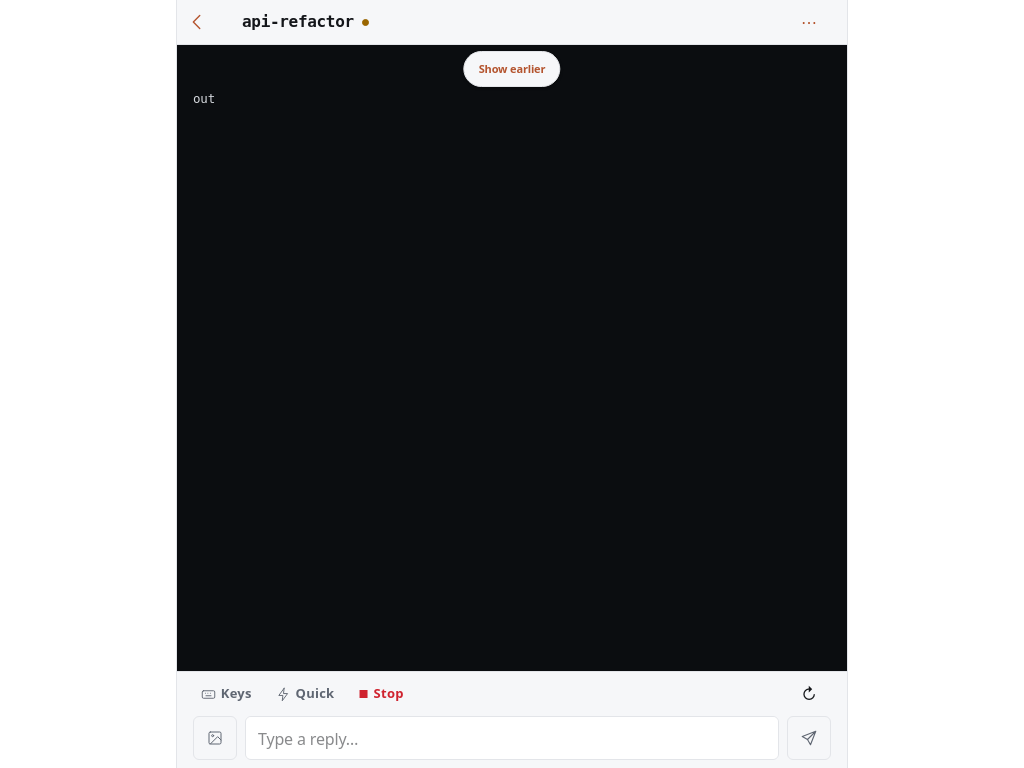
Test: a journal-hinted agent whose /history answers reconstruction falls back, not blank
Click the button with class "term-earlier".
click(512, 69)  # box left=463, top=51, right=561, bottom=87
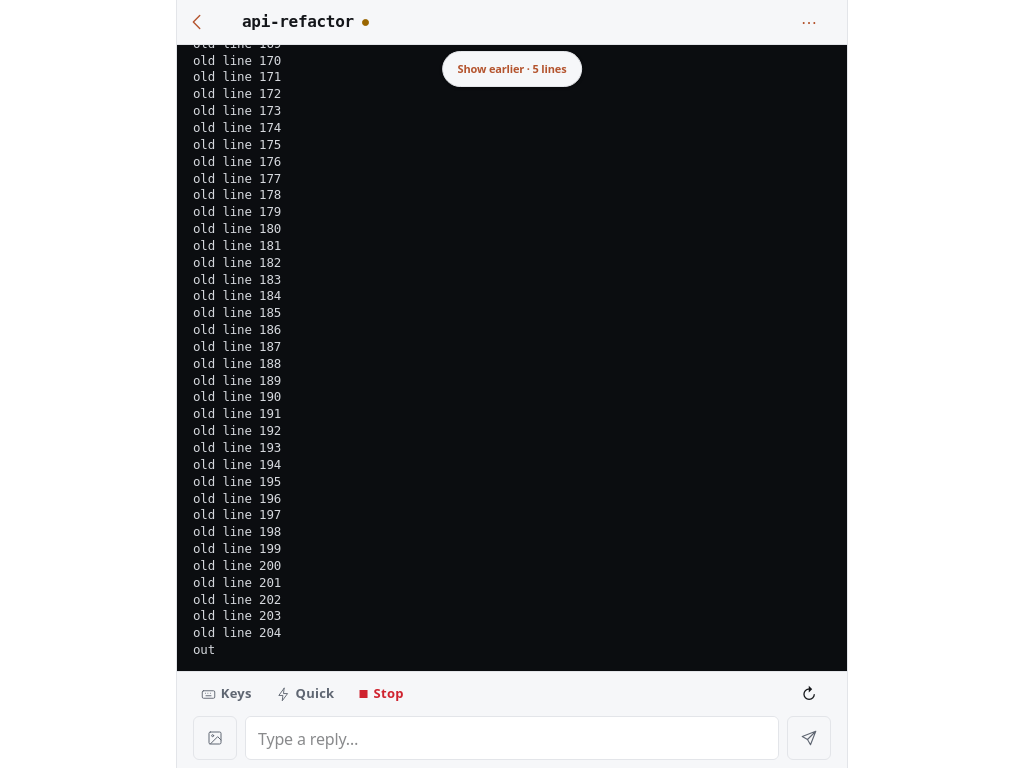
Expected: the text "old line 204" is shown, left=193, top=625, right=281, bottom=640
Expected: the button with class "term-earlier" shows "5 lines", left=442, top=51, right=582, bottom=87
